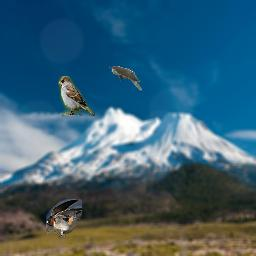Cuckoo: (109, 66, 142, 91)
Sparrow: (58, 76, 95, 116)
Swallow: (46, 199, 82, 238)
